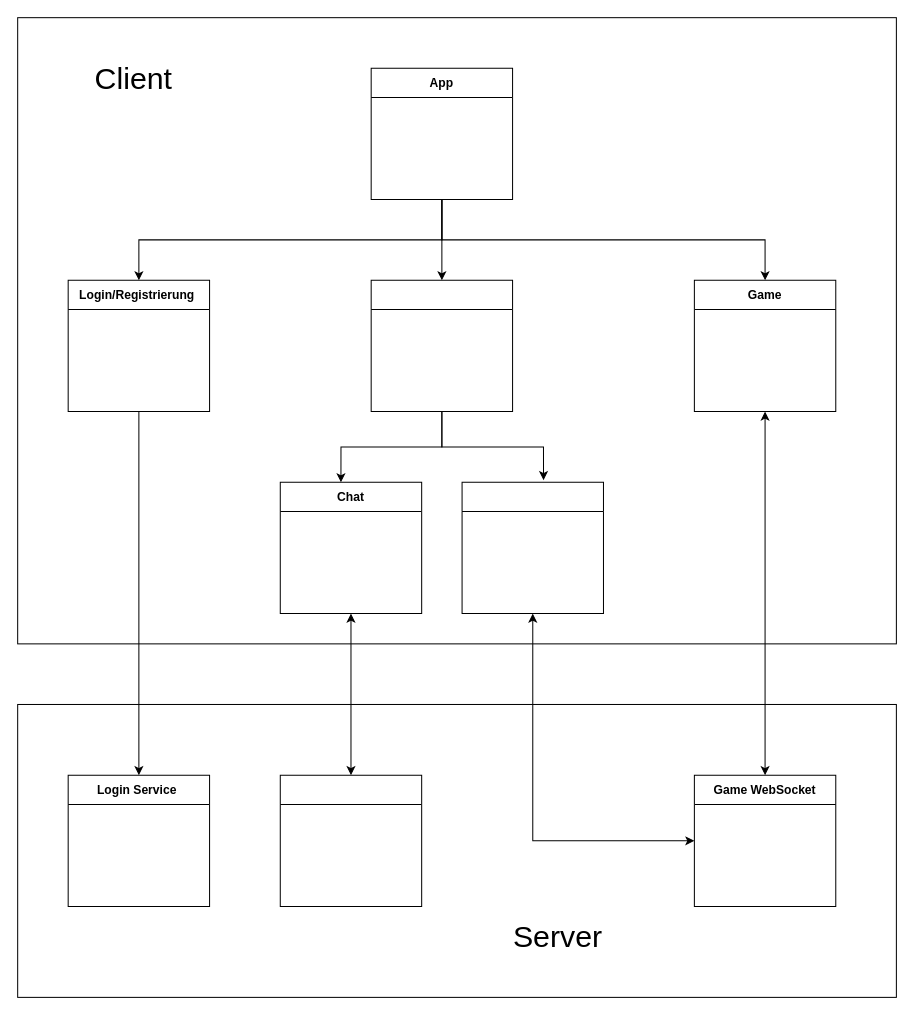
Image size: 914x1015. Some labels were removed from this diagram. Each missing label, with the centre of its shape:
Chat Web Socket: pixel 350 840
Lobby: pixel 441 345
Lobbyview: pixel 532 547
